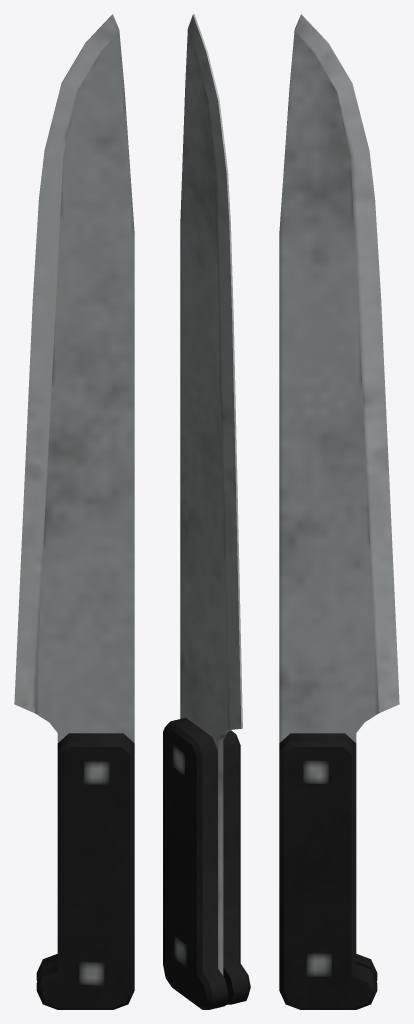
The model's file is kitchen_knife_long.obj.
The picture shows the model from 3 angles, left to right: view 1: azimuth 90°, elevation 25°; view 2: azimuth 210°, elevation 25°; view 3: azimuth 270°, elevation 25°; orthographic projection.
Visible parts, largest first — view 1: kitchen_knife_long; view 2: kitchen_knife_long; view 3: kitchen_knife_long.
Part boxes in pixels (box(x1,y1,x2,y2)): kitchen_knife_long: box(14, 14, 134, 1009); kitchen_knife_long: box(163, 14, 250, 1009); kitchen_knife_long: box(279, 14, 399, 1009).
Size of the model in its own units: 0.0231 by 0.4864 by 0.0537.
